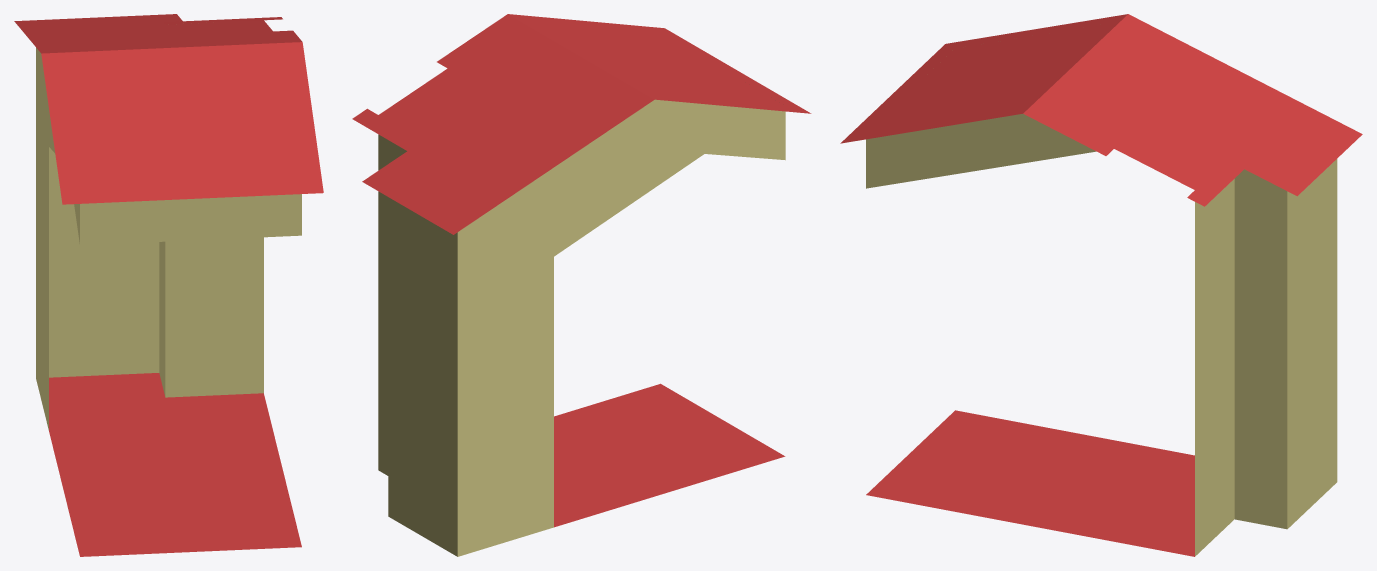
The picture shows the model from 3 angles, left to right: view 1: azimuth 30°, elevation 25°; view 2: azimuth 150°, elevation 25°; view 3: azimuth 270°, elevation 25°; orthographic projection. The views are drawn at different scales.
Size of the model in its own units: 10.23 by 13.43 by 11.9.
